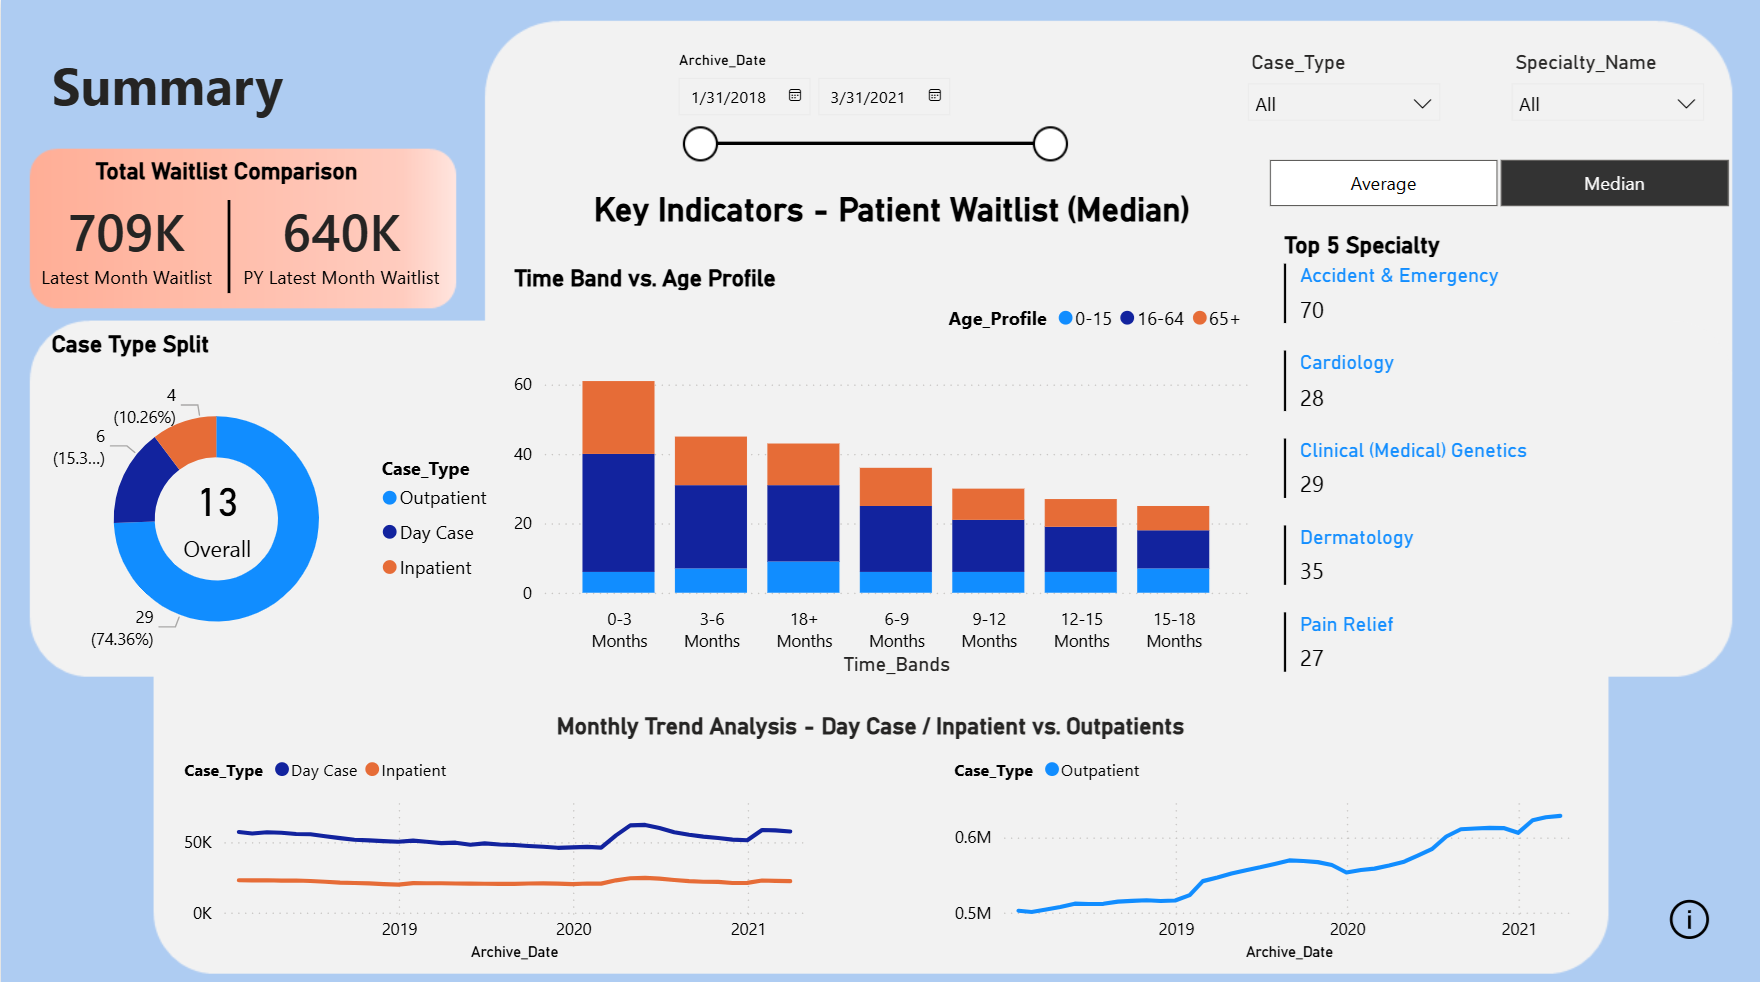

The page's visual inventory and layout, read from the dashboard file:
{"tool":"powerbi","page":{"name":"Summary","canvas":[1280,720],"ordinal":0},"visuals":[{"type":"cardVisual","fields":{"Data":["All_Data.Latest Month Waitlist"]},"box":[0,128,183.4,96],"z":0},{"type":"cardVisual","fields":{"Data":["All_Data.PY Latest Month Waitlist"]},"box":[144,128,208,96],"z":1000},{"type":"slicer","fields":{"Values":["Calculation Method.Calc Method"]},"box":[896,109.5,384,48],"z":2000},{"type":"donutChart","title":"Case Type Split","fields":{"Category":["All_Data.Case_Type"],"Y":["All_Data.Avg/Med Waitlist"]},"box":[32,240,336,256],"z":3000},{"type":"columnChart","title":"Time Band vs. Age Profile","fields":{"Y":["All_Data.Avg/Med Waitlist"],"Category":["All_Data.Time_Bands"],"Series":["All_Data.Age_Profile"]},"box":[368,192,544,304],"z":4000},{"type":"multiRowCard","title":"Top 5 Specialty","fields":{"Values":["All_Data.Specialty_Name","All_Data.Avg/Med Waitlist"]},"box":[928,164.9,320,359.4],"z":5000},{"type":"card","fields":{"Values":["All_Data.NoDataRight"]},"box":[692.9,577.2,400,112],"z":6000},{"type":"card","fields":{"Values":["All_Data.NoDataLeft"]},"box":[188.1,580.9,398.8,105.8],"z":7000},{"type":"lineChart","fields":{"Category":["All_Data.Archive_Date"],"Y":["Sum(All_Data.Total)"],"Series":["All_Data.Case_Type"]},"box":[128,540.3,464,163.7],"z":8000},{"type":"lineChart","fields":{"Category":["All_Data.Archive_Date"],"Y":["Sum(All_Data.Total)"],"Series":["All_Data.Case_Type"]},"box":[688,540.3,464,163.7],"z":9000},{"type":"slicer","fields":{"Values":["All_Data.Archive_Date"]},"box":[480,32,304,96],"z":10000},{"type":"slicer","fields":{"Values":["All_Data.Case_Type"]},"box":[896,32,160,64],"z":11000},{"type":"slicer","fields":{"Values":["All_Data.Specialty_Name"]},"box":[1088,32,160,64],"z":12000},{"type":"textbox","box":[32,32,192,64],"z":13000},{"type":"shape","box":[141.5,145.2,48,67.7],"z":14000},{"type":"textbox","box":[64,109.5,204.3,35.7],"z":15000},{"type":"textbox","box":[398.8,512.9,483.5,36.5],"z":16000},{"type":"card","title":"Overall","fields":{"Values":["All_Data.Avg/Med Waitlist"]},"box":[105,328.6,104.3,92.9],"z":17000},{"type":"card","title":"Overall","fields":{"Values":["All_Data.Dynamic Title"]},"box":[398.8,134.2,497.2,34.5],"z":18000},{"type":"actionButton","box":[1208.6,648.6,39.4,40.6],"z":19000}]}

Visuals, with their boxes in screenshot pixels (x1, y1, x2, y2), scaled from the page's 1280x720 canvas onto the 1760x982 screenshot:
cardVisual - All_Data.Latest Month Waitlist: {"left": 0, "top": 175, "right": 252, "bottom": 306}
cardVisual - All_Data.PY Latest Month Waitlist: {"left": 198, "top": 175, "right": 484, "bottom": 306}
slicer - Calculation Method.Calc Method: {"left": 1232, "top": 149, "right": 1759, "bottom": 215}
"Case Type Split" donutChart: {"left": 44, "top": 327, "right": 506, "bottom": 676}
"Time Band vs. Age Profile" columnChart: {"left": 506, "top": 262, "right": 1254, "bottom": 676}
"Top 5 Specialty" multiRowCard: {"left": 1276, "top": 225, "right": 1716, "bottom": 715}
card - All_Data.NoDataRight: {"left": 953, "top": 787, "right": 1503, "bottom": 940}
card - All_Data.NoDataLeft: {"left": 259, "top": 792, "right": 807, "bottom": 937}
lineChart - All_Data.Archive_Date x Sum(All_Data.Total): {"left": 176, "top": 737, "right": 814, "bottom": 960}
lineChart - All_Data.Archive_Date x Sum(All_Data.Total): {"left": 946, "top": 737, "right": 1584, "bottom": 960}
slicer - All_Data.Archive_Date: {"left": 660, "top": 44, "right": 1078, "bottom": 175}
slicer - All_Data.Case_Type: {"left": 1232, "top": 44, "right": 1452, "bottom": 131}
slicer - All_Data.Specialty_Name: {"left": 1496, "top": 44, "right": 1716, "bottom": 131}
textbox: {"left": 44, "top": 44, "right": 308, "bottom": 131}
shape: {"left": 195, "top": 198, "right": 261, "bottom": 290}
textbox: {"left": 88, "top": 149, "right": 369, "bottom": 198}
textbox: {"left": 548, "top": 700, "right": 1213, "bottom": 749}
"Overall" card: {"left": 144, "top": 448, "right": 288, "bottom": 575}
"Overall" card: {"left": 548, "top": 183, "right": 1232, "bottom": 230}
actionButton: {"left": 1662, "top": 885, "right": 1716, "bottom": 940}
